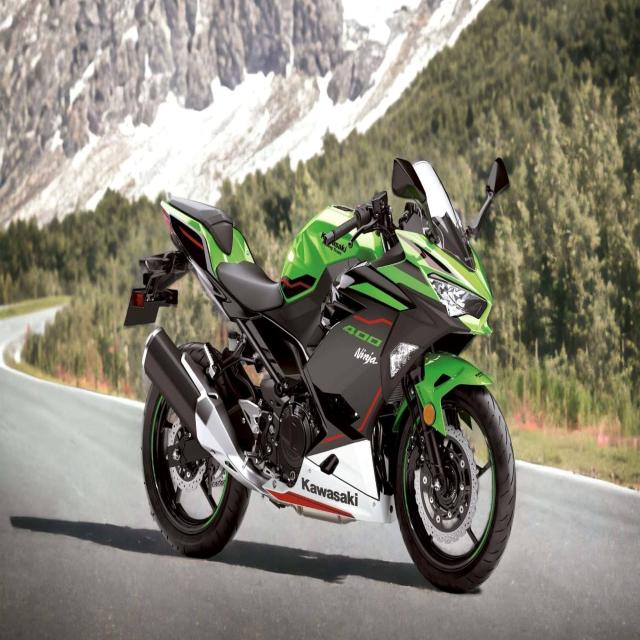Bike: (130, 159, 517, 596)
